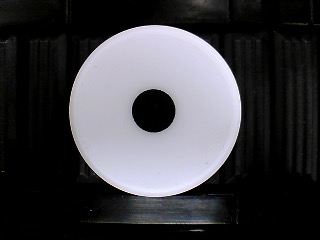BOHO: (68, 24, 242, 198)
